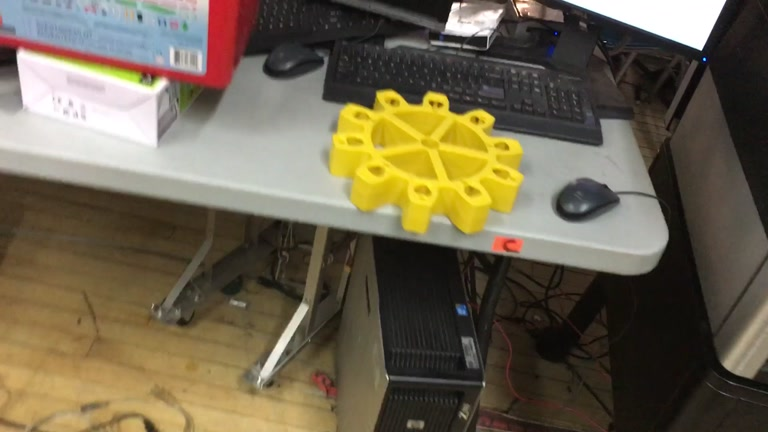gear: (330, 89, 524, 234)
